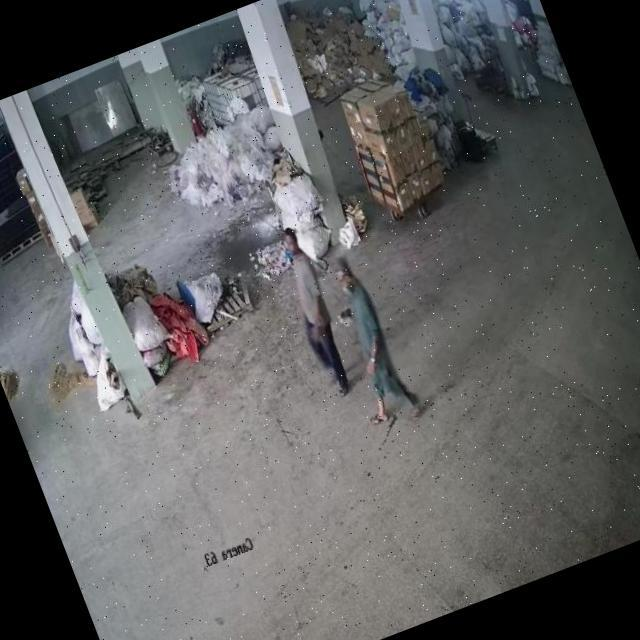person: (327, 254, 420, 436), (276, 238, 353, 392)
